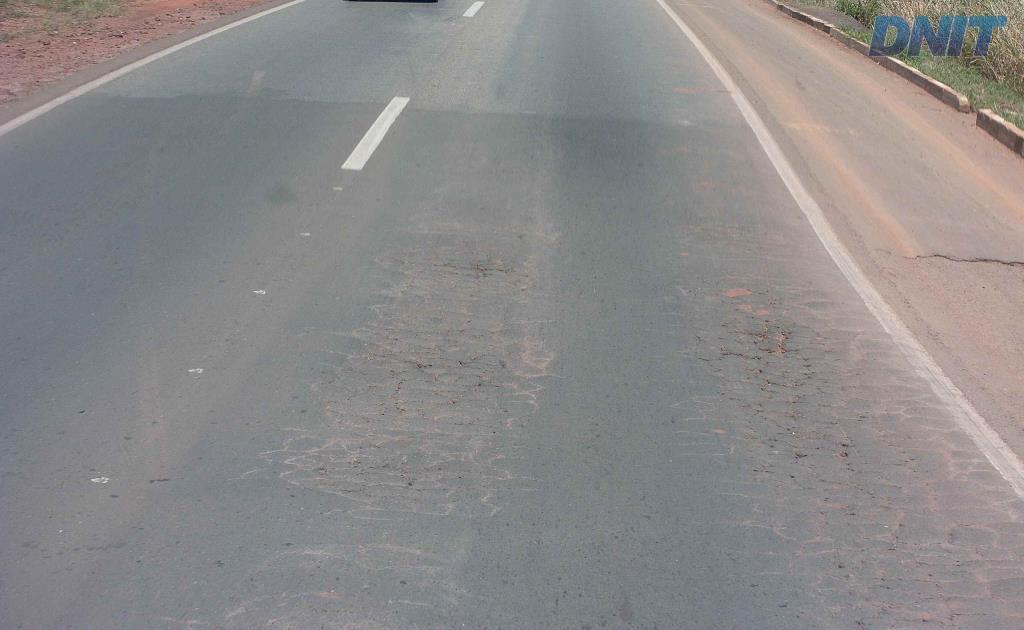crack: (747, 319, 799, 358)
